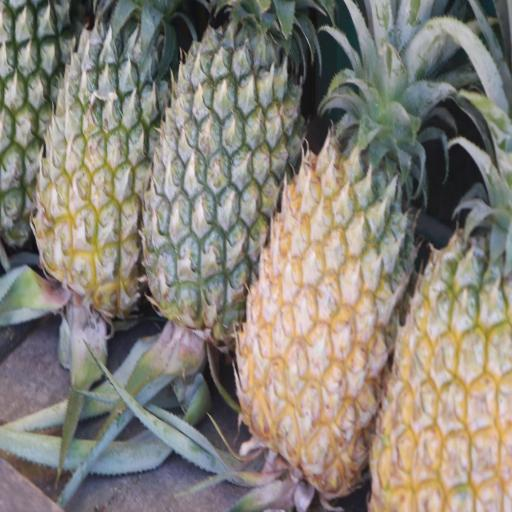------------------------------: (27, 0, 179, 324)
Pineapple - v8 v1: (234, 0, 424, 506), (367, 158, 512, 508)
